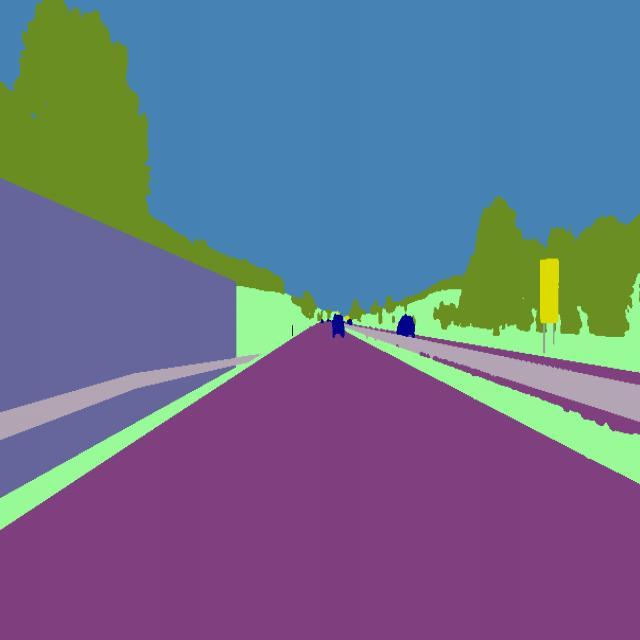safe: (328, 308, 349, 343), (396, 310, 418, 342)
